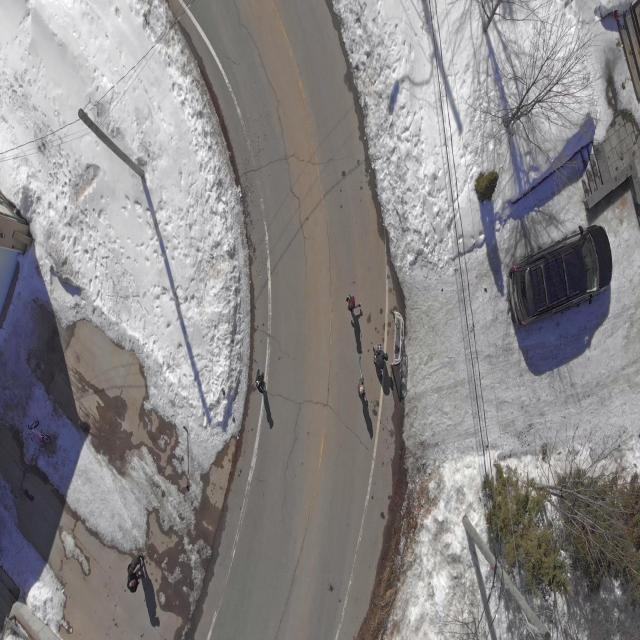Car: (506, 224, 614, 332)
Cycle: (26, 419, 50, 446)
